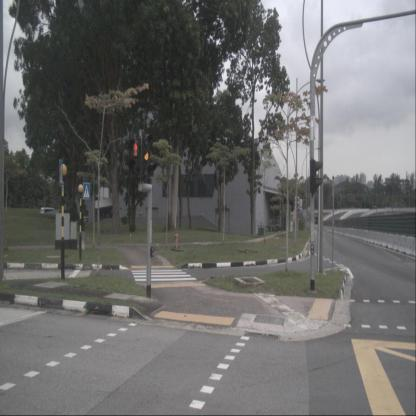vehicle-bus-rigid: (40, 207, 58, 217)
